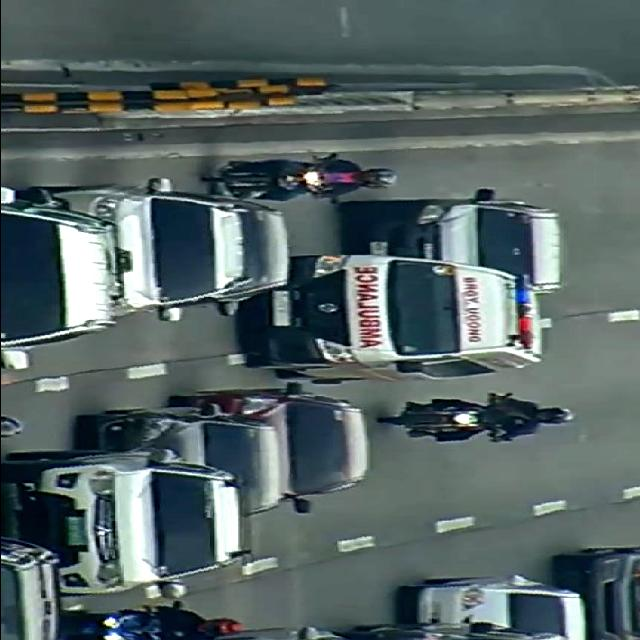emergency: (236, 254, 554, 387)
